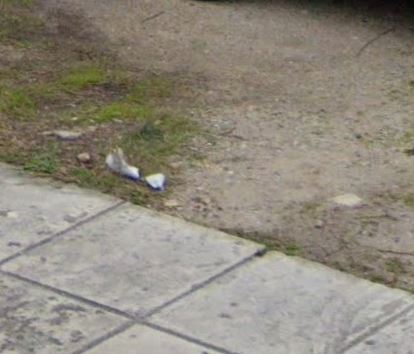trash: (92, 140, 179, 193), (330, 188, 367, 210)
